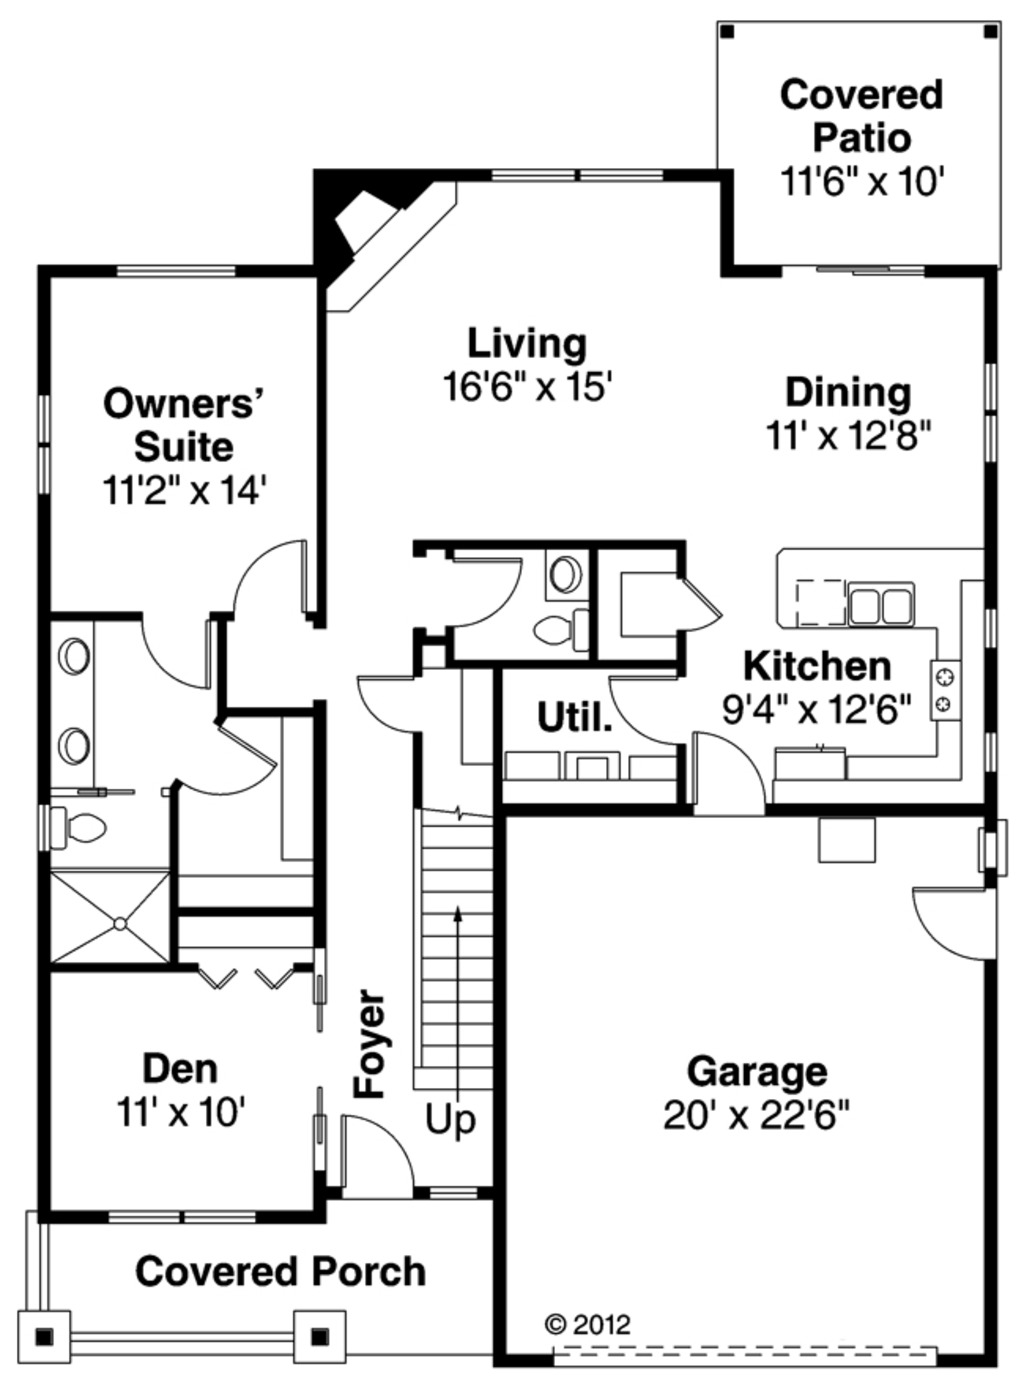door: (330, 1090, 426, 1209), (677, 724, 780, 826), (428, 542, 531, 639), (176, 721, 286, 811), (914, 868, 1004, 978), (133, 605, 230, 701), (227, 542, 317, 625), (601, 674, 688, 751), (654, 565, 733, 644), (354, 662, 423, 738)
large_sink: (44, 792, 108, 859), (534, 602, 596, 661)
small_sink: (54, 622, 88, 781), (536, 548, 591, 602)
stairs: (413, 742, 494, 1092)
twin_sink: (838, 572, 931, 641)
window: (20, 391, 71, 499), (97, 1202, 256, 1232), (110, 255, 243, 286), (978, 362, 1014, 469), (978, 726, 1016, 788), (976, 605, 1013, 652)
